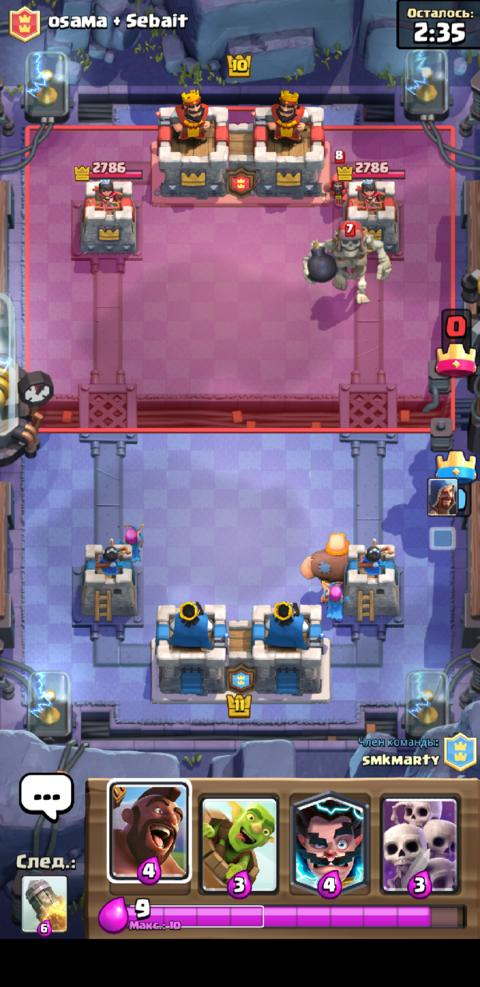ally_archer: (116, 524, 146, 562), (321, 579, 346, 621)
ally_giant: (298, 531, 349, 582)
enemy_giant_skeleton: (300, 219, 392, 305)
enemy_wizard: (322, 149, 348, 206)
